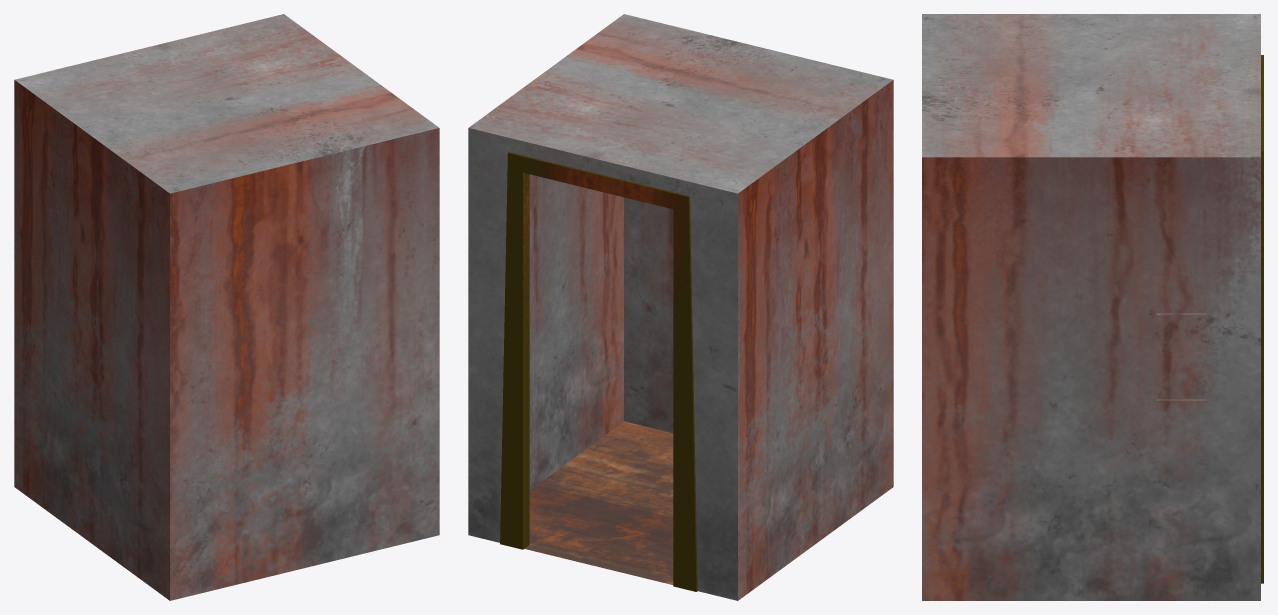
File: Elevator.fbx
3 views of the same model, side by side, from view 1: azimuth 30°, elevation 25°; view 2: azimuth 150°, elevation 25°; view 3: azimuth 270°, elevation 25° (orthographic). The views are drawn at different scales.
Parts seen in each view (by area): view 1: polySurface4; view 2: polySurface4; view 3: polySurface4.
Part boxes in pixels (<box>): polySurface4: <box>14,14,439,600</box>; polySurface4: <box>468,14,893,600</box>; polySurface4: <box>922,14,1263,600</box>.
Size of the model in its own units: 181 by 260 by 181.
Materials: 1 (1 with a texture image).
